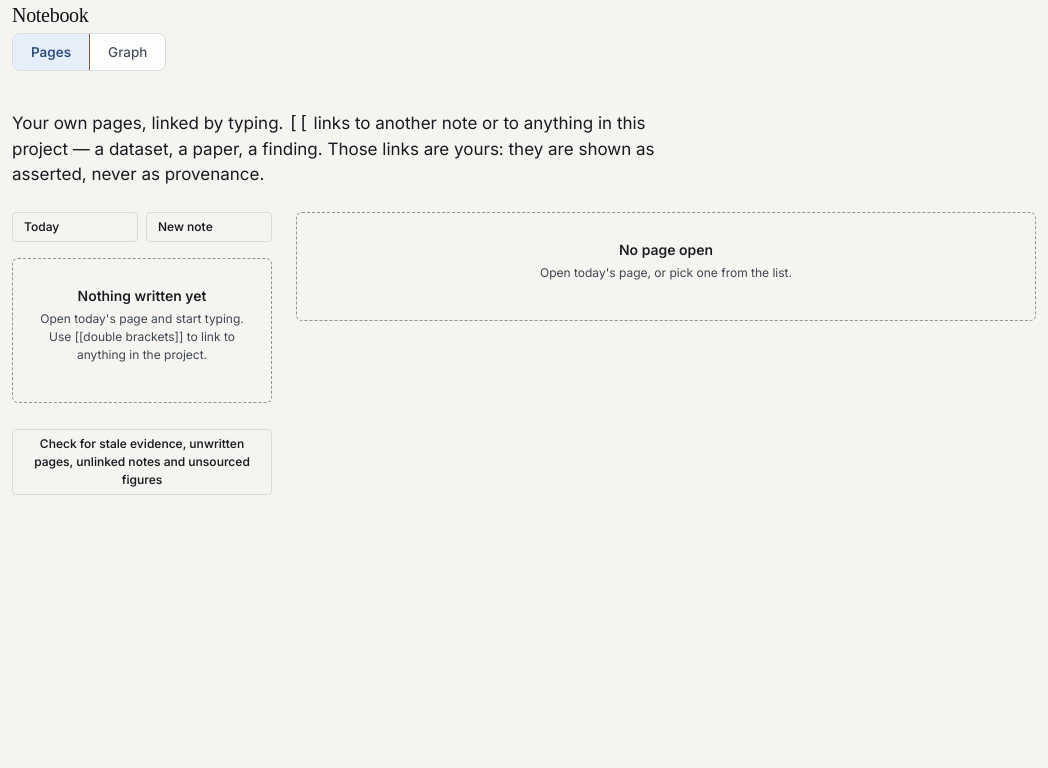
Test: creating a note › opens the note it just created
This screenshot has width=1048, height=768.
Click the button "New note" at (209, 226), box [146,212,272,242]
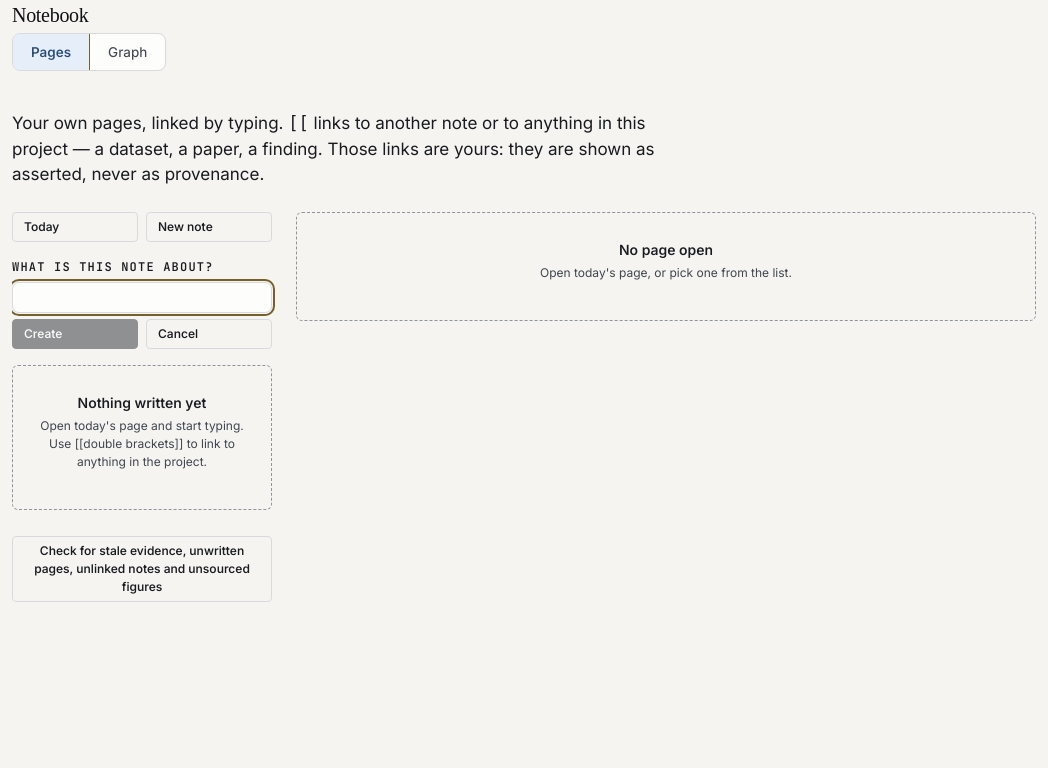
Type "Ward round notes" into the field at (142, 297), box [12,282,272,312]
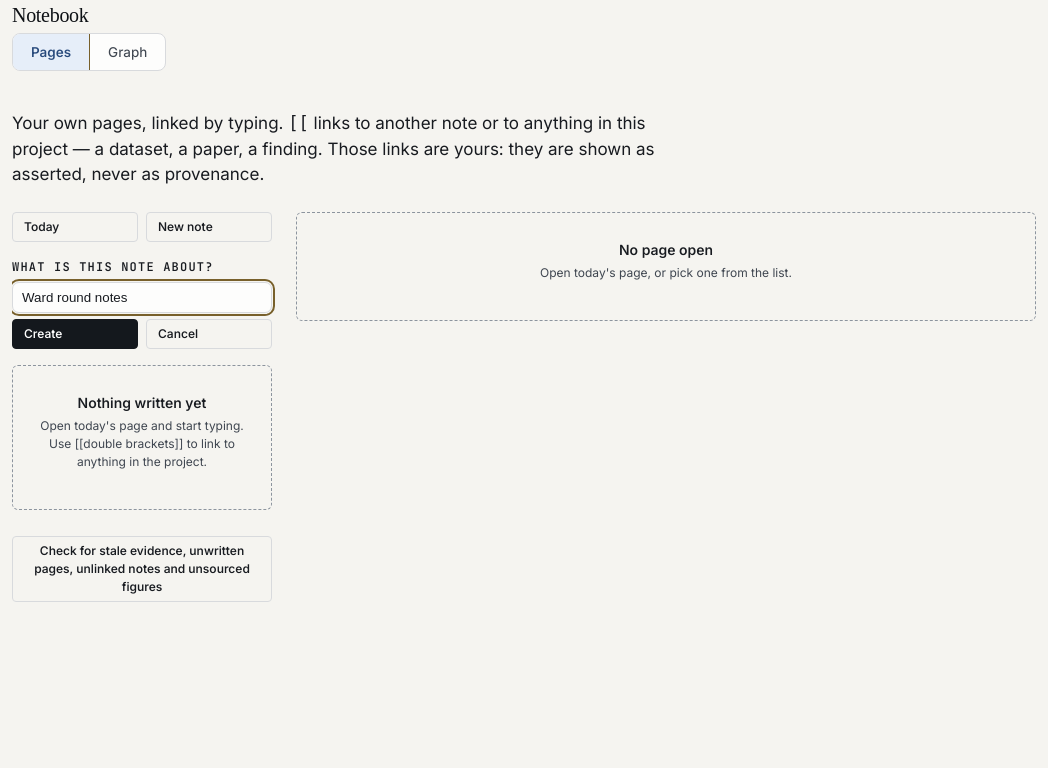
Click the button "Create" at (75, 334), box [12,318,138,348]
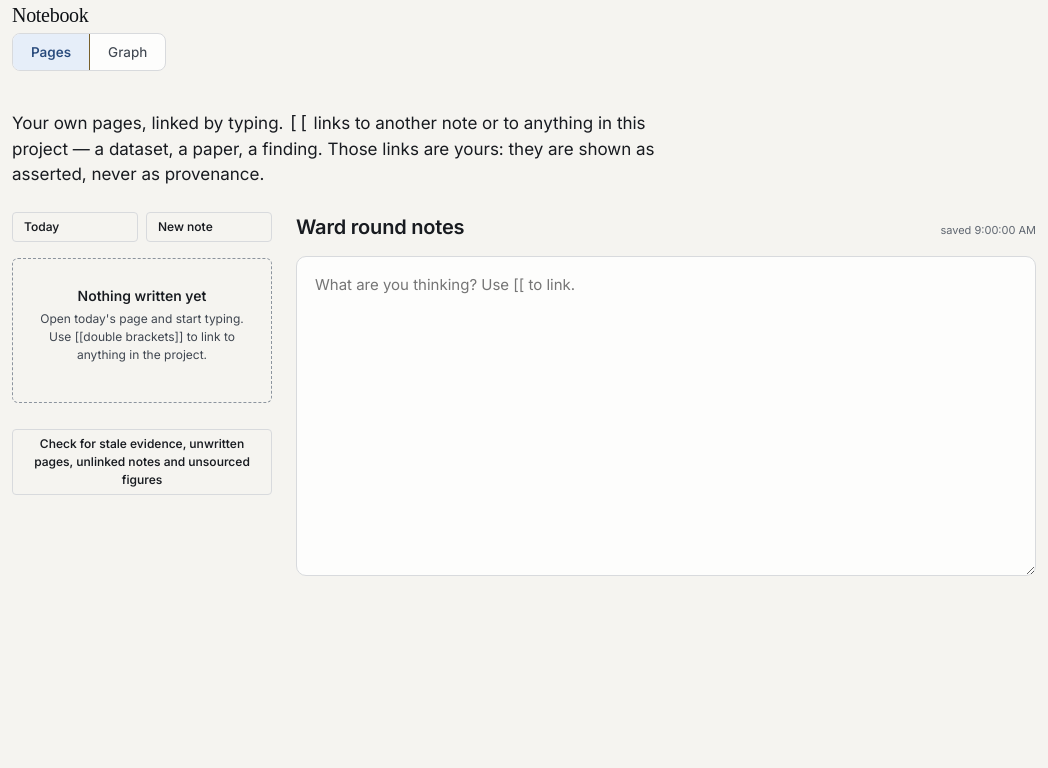
Expected: the dropdown labelled "What are you thinking? Use [ [ to link." is shown, [296,256,1036,576]
